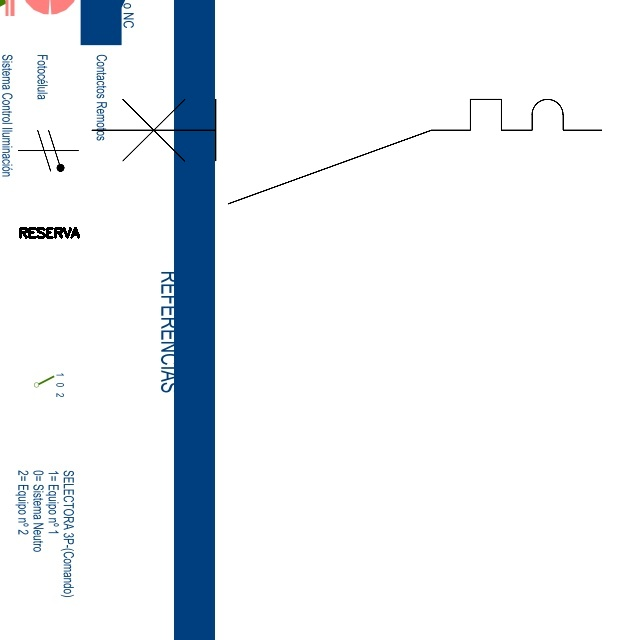interruptor_termomagnetico: (78, 86, 614, 217)
